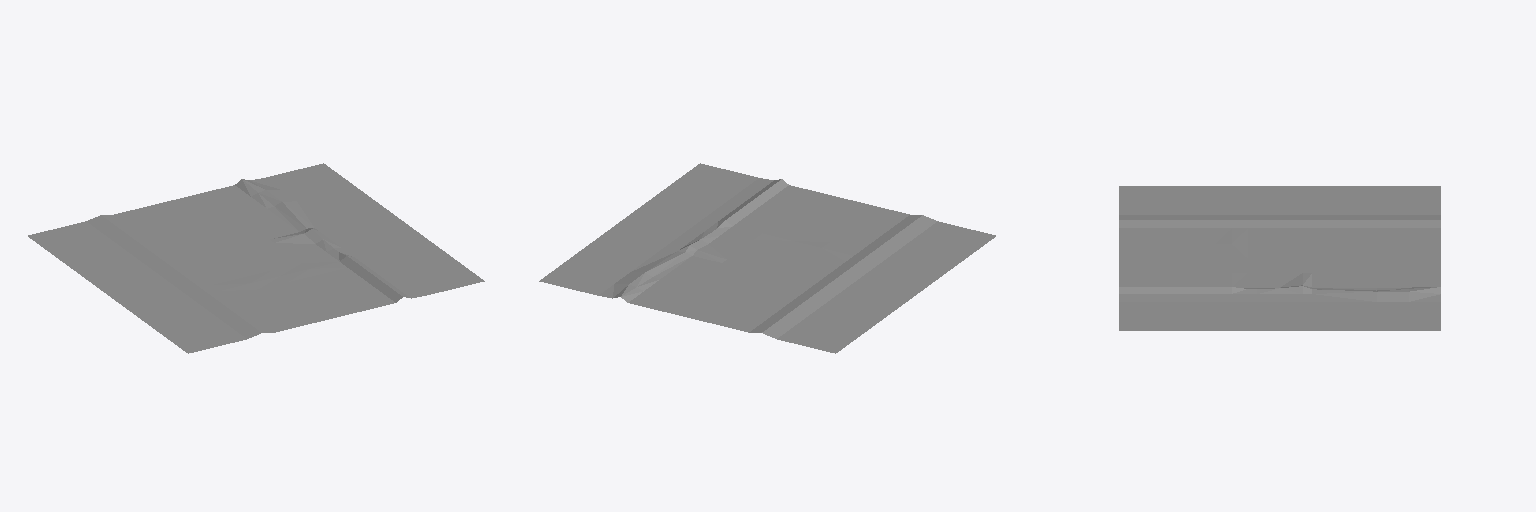
File: ground.obj
3 renders of one model, left to right at view 1: azimuth 30°, elevation 25°; view 2: azimuth 150°, elevation 25°; view 3: azimuth 270°, elevation 25°, orthographic.
Visible parts, largest first — view 1: Ground_LP; view 2: Ground_LP; view 3: Ground_LP.
Boxes of the visible parts, <box> form: Ground_LP: <box>28,163,484,353</box>; Ground_LP: <box>539,163,995,353</box>; Ground_LP: <box>1119,186,1440,330</box>.
Size of the model in its own units: 4541 by 74.84 by 4267.